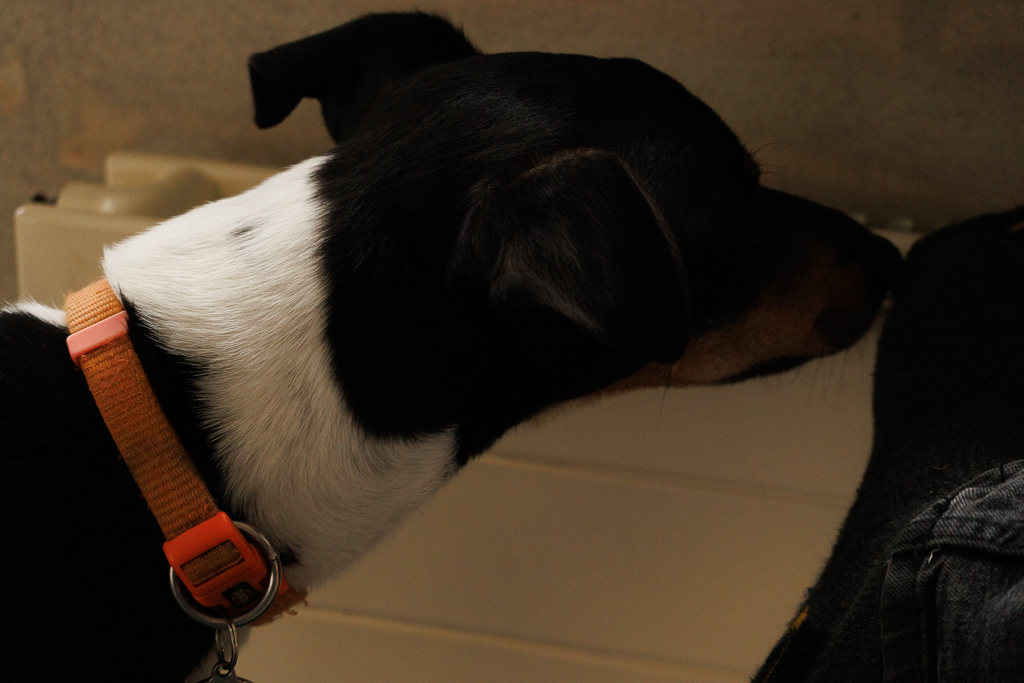Dog: (0, 5, 936, 683)
Humanoid: (732, 179, 1024, 683)
